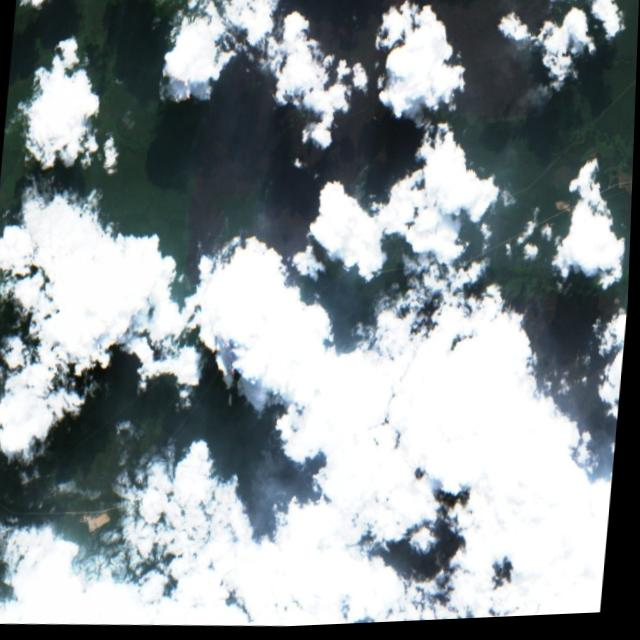fire: (247, 418, 297, 522)
